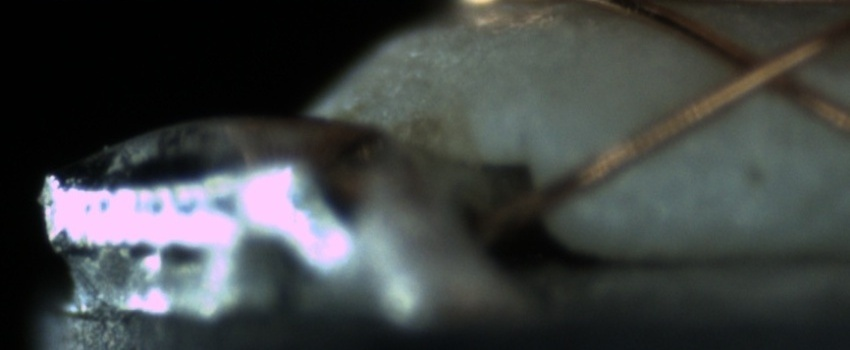CL: (715, 34, 816, 106)
